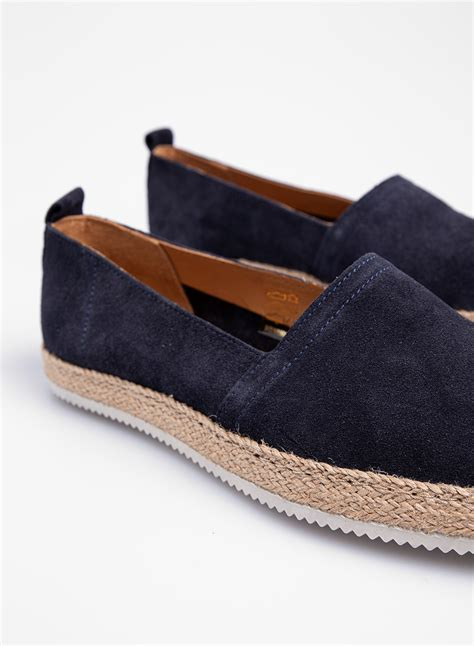gamuza: (38, 146, 474, 491)
